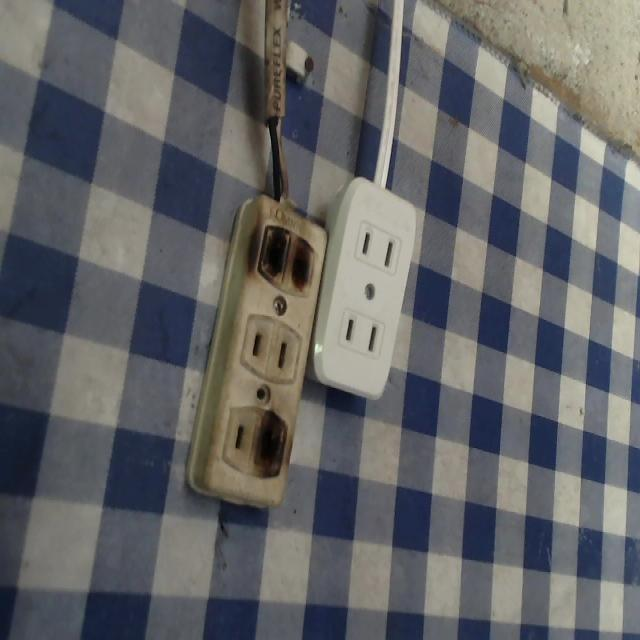-: (251, 221, 326, 300), (251, 408, 294, 483)
